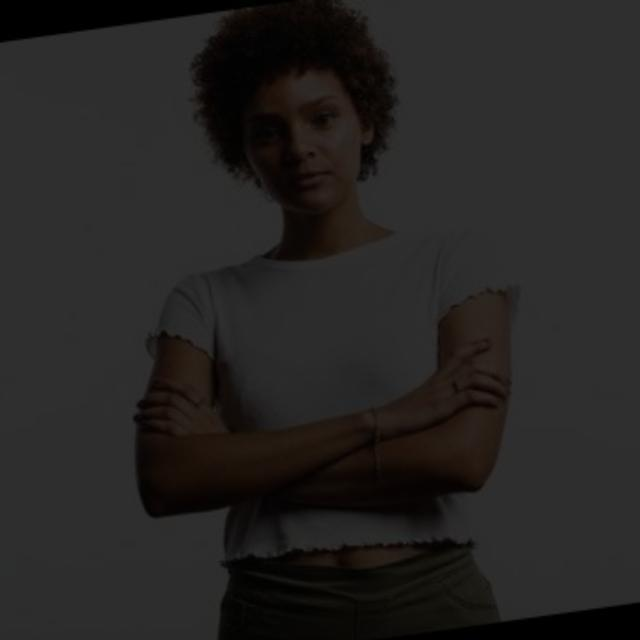Natural: (143, 19, 406, 250)
